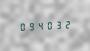four: (36, 20, 44, 31)
nine: (26, 20, 34, 31)
three: (54, 19, 62, 30)
two: (63, 19, 71, 29)
zero: (17, 21, 25, 31), (45, 20, 53, 30)
